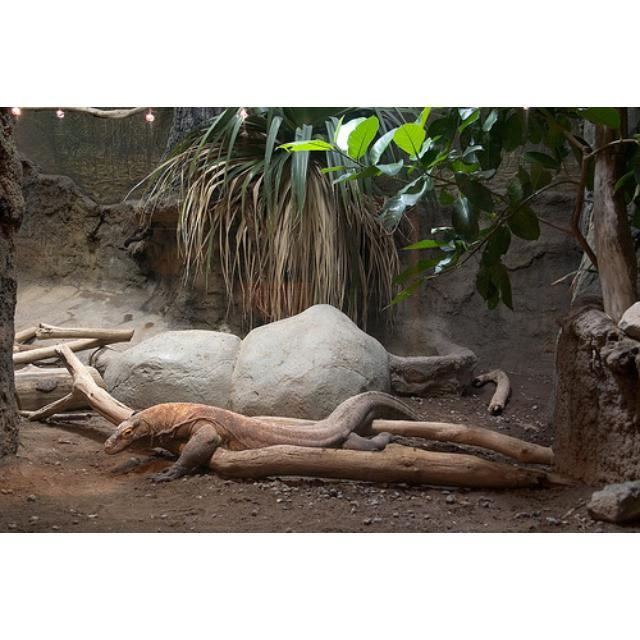KomodoDragon: (100, 389, 468, 483)
